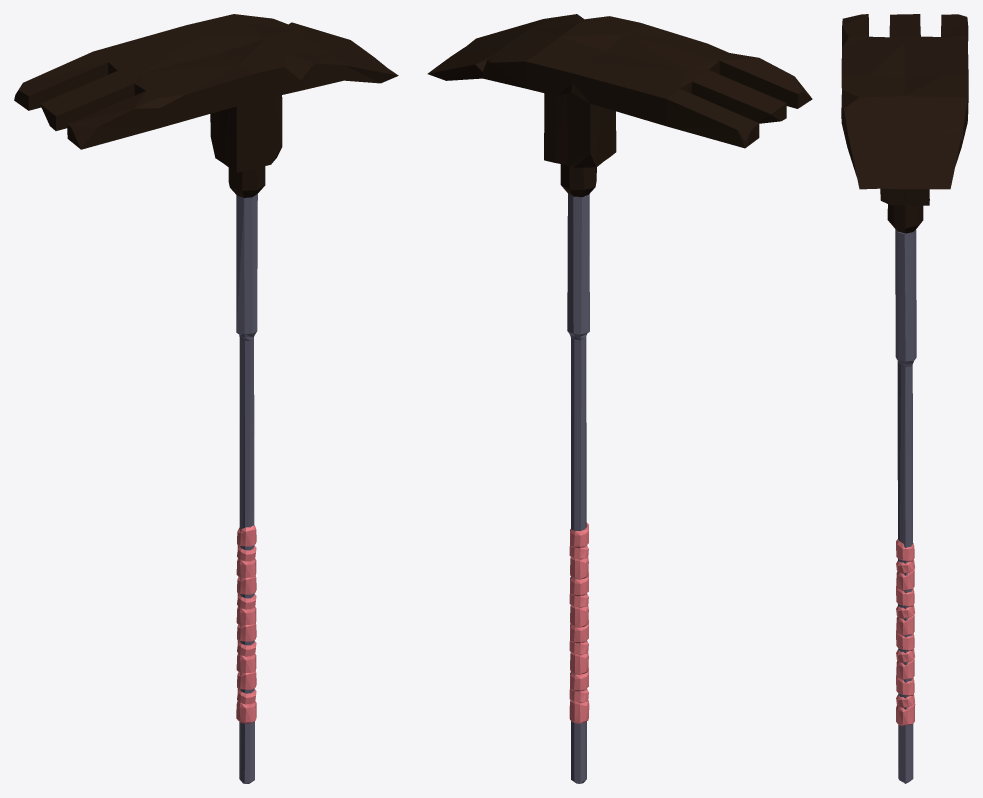
File: SFFA_Hoe.fbx
3 renders of one model, left to right at view 1: azimuth 30°, elevation 25°; view 2: azimuth 150°, elevation 25°; view 3: azimuth 270°, elevation 25°, orthographic. The views are drawn at different scales.
Visible parts, largest first — view 1: SFFA_Hoe; view 2: SFFA_Hoe; view 3: SFFA_Hoe.
Boxes of the visible parts, x1=… form: SFFA_Hoe: x1=14, y1=14, x2=398, y2=783; SFFA_Hoe: x1=427, y1=14, x2=812, y2=783; SFFA_Hoe: x1=841, y1=14, x2=968, y2=783.
Size of the model in its own units: 84.42 by 182 by 30.28.
